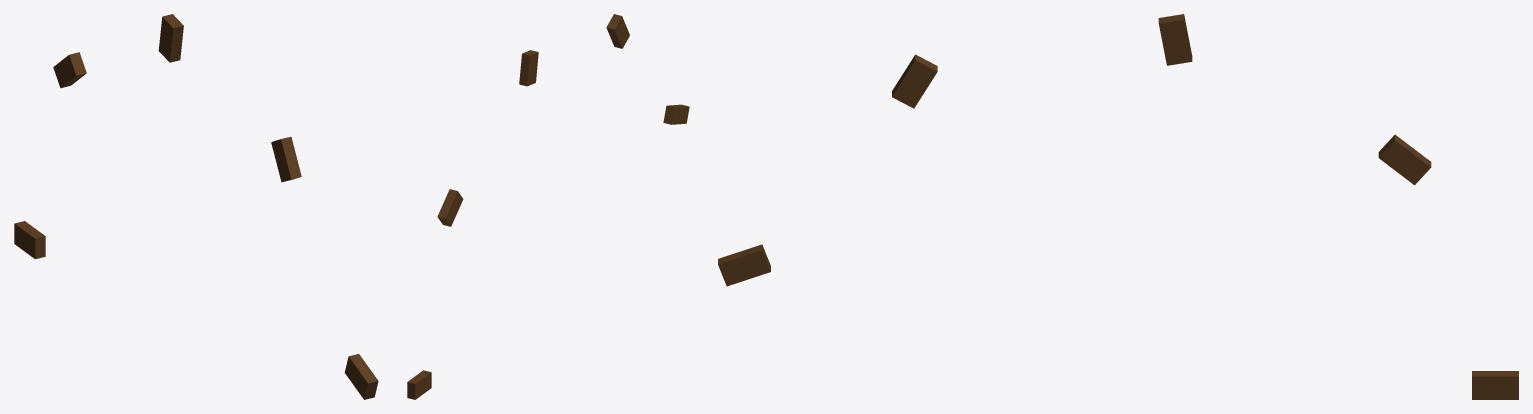
The model's file is guia-zapallo.glb.
The picture shows the model from 3 angles, left to right: view 1: azimuth 30°, elevation 25°; view 2: azimuth 150°, elevation 25°; view 3: azimuth 270°, elevation 25°; orthographic projection. The views are drawn at different scales.
Parts seen in each view (by area): view 1: raya4, raya8, raya6, raya0, raya2; view 2: raya4, raya2, raya6, raya0, raya8; view 3: raya2, raya8, raya6, raya0, raya4.
Boxes of the visible parts, x1,y1,x2,y2 form: raya4: [158, 14, 183, 62]; raya8: [344, 354, 378, 399]; raya6: [271, 136, 301, 182]; raya0: [14, 221, 45, 259]; raya2: [53, 52, 86, 88]; raya4: [519, 50, 538, 86]; raya2: [437, 189, 463, 226]; raya6: [606, 14, 629, 48]; raya0: [407, 370, 431, 399]; raya8: [663, 104, 689, 124]; raya2: [1378, 134, 1431, 185]; raya8: [718, 244, 770, 286]; raya6: [892, 54, 937, 108]; raya0: [1472, 371, 1518, 399]; raya4: [1158, 14, 1192, 65].
Size of the model in its own units: 0.016 by 0.4898 by 0.9352.
